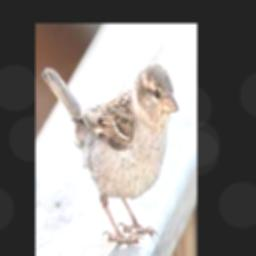Sparrow: (41, 62, 178, 242)
